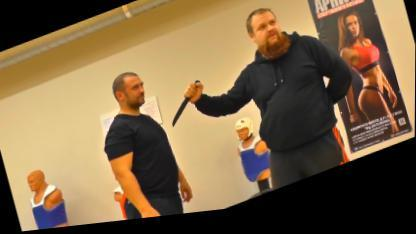knife: (161, 80, 211, 132)
